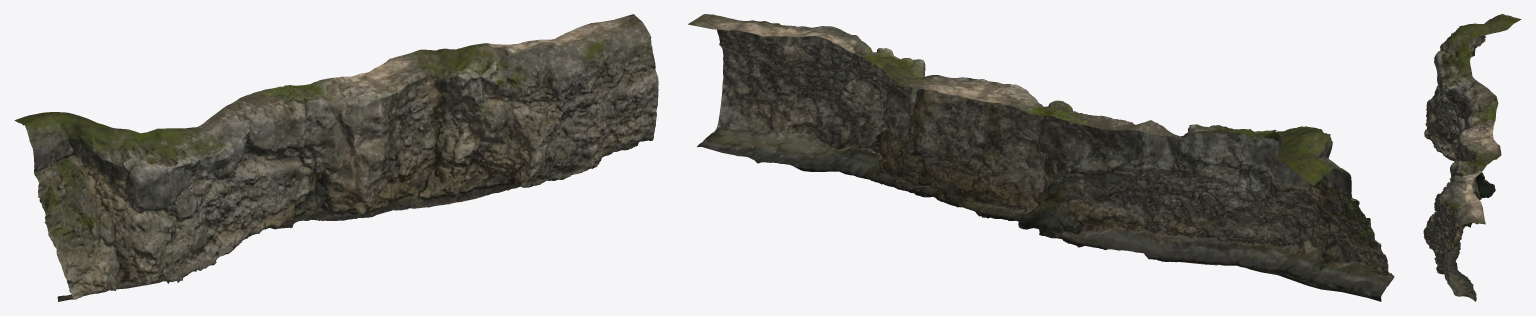
Rendered from coastal_cliff_02.glb.
3 views of the same model, side by side, from view 1: azimuth 30°, elevation 25°; view 2: azimuth 150°, elevation 25°; view 3: azimuth 270°, elevation 25° (orthographic). The views are drawn at different scales.
Visible parts, largest first — view 1: coastal_cliff_02_LOD0; view 2: coastal_cliff_02_LOD0; view 3: coastal_cliff_02_LOD0.
Part boxes in pixels (box(x1,y1,x2,y2)): coastal_cliff_02_LOD0: box(14, 14, 658, 301); coastal_cliff_02_LOD0: box(688, 14, 1394, 301); coastal_cliff_02_LOD0: box(1423, 14, 1521, 301).
Size of the model in its own units: 40.93 by 10.05 by 8.65.
Materials: 1 (1 with a texture image).
